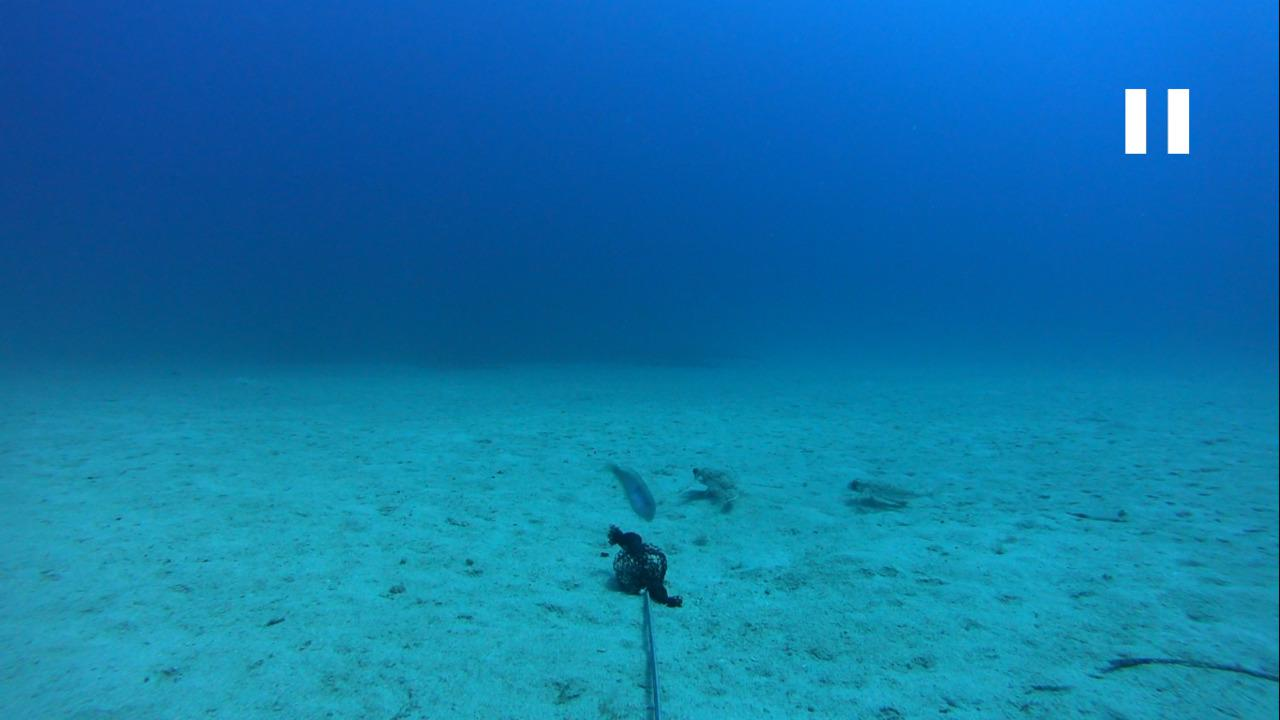bothus: (1063, 501, 1134, 526)
dactylopterus: (667, 458, 753, 521), (826, 473, 940, 512)
raor: (599, 453, 660, 529)
